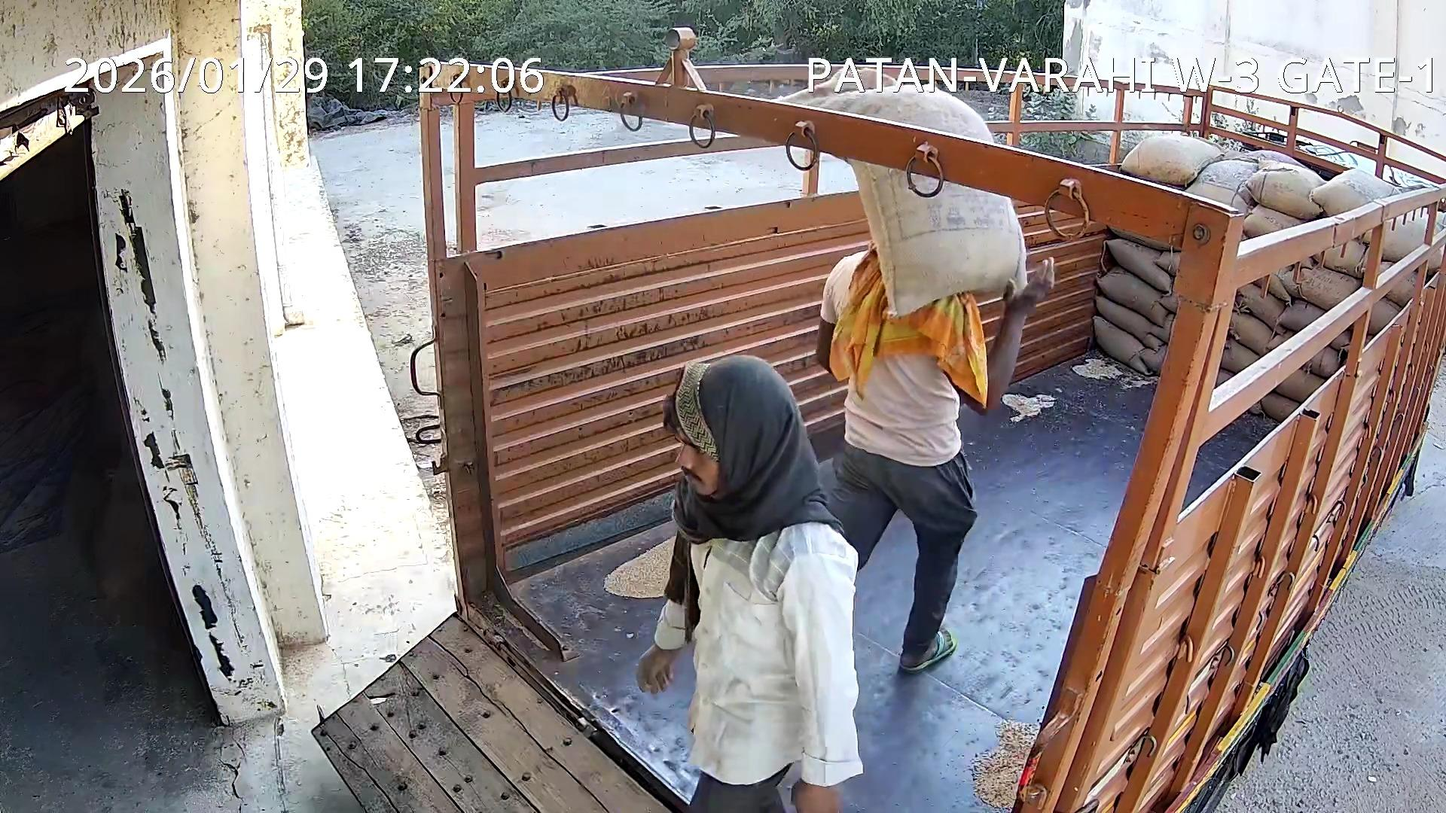Sack: (849, 143, 1025, 315), (782, 80, 992, 141)
